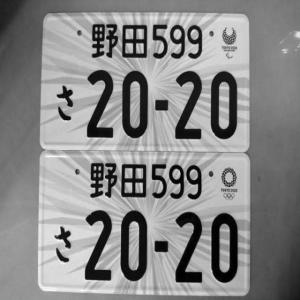Plate: (38, 12, 251, 295), (40, 13, 250, 152)
